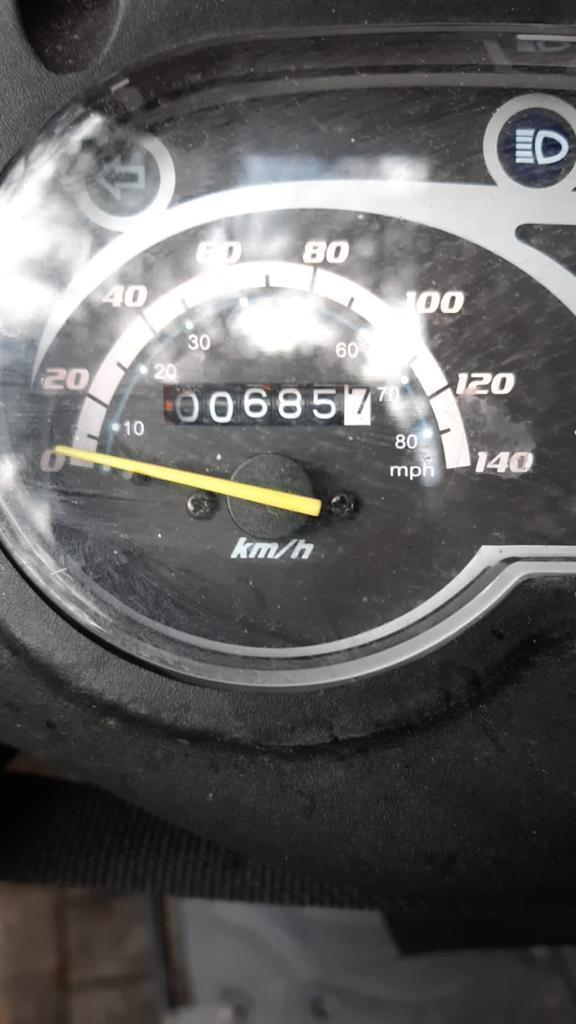0: (206, 388, 237, 426), (173, 387, 202, 425)
5: (310, 386, 339, 423)
6: (241, 386, 270, 420)
7: (345, 384, 373, 418)
8: (278, 386, 306, 421)
odometer: (158, 380, 375, 429)
